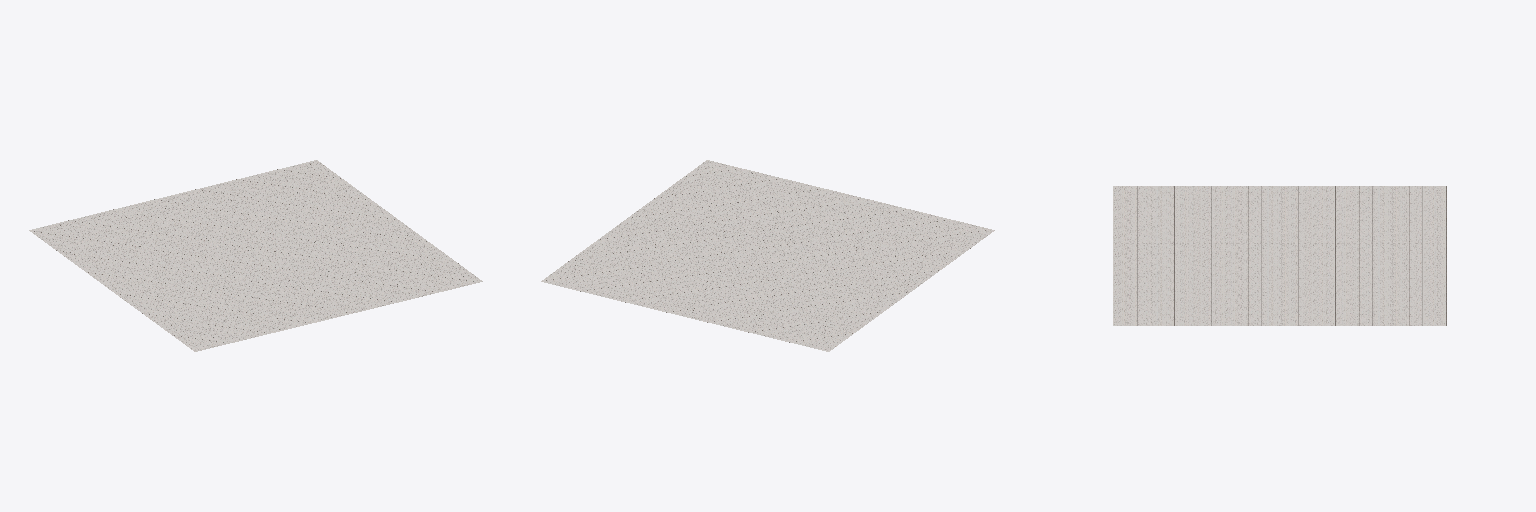
The picture shows the model from 3 angles: view 1: azimuth 30°, elevation 25°; view 2: azimuth 150°, elevation 25°; view 3: azimuth 270°, elevation 25°; orthographic projection.
Parts seen in each view (by area): view 1: plane; view 2: plane; view 3: plane.
Boxes of the visible parts, <box> form: plane: <box>29,160,482,351</box>; plane: <box>541,160,994,351</box>; plane: <box>1113,186,1446,325</box>.
Bounding box in the file's own units: 18.75 × 0 × 18.75.
Materials: 1 (1 with a texture image).